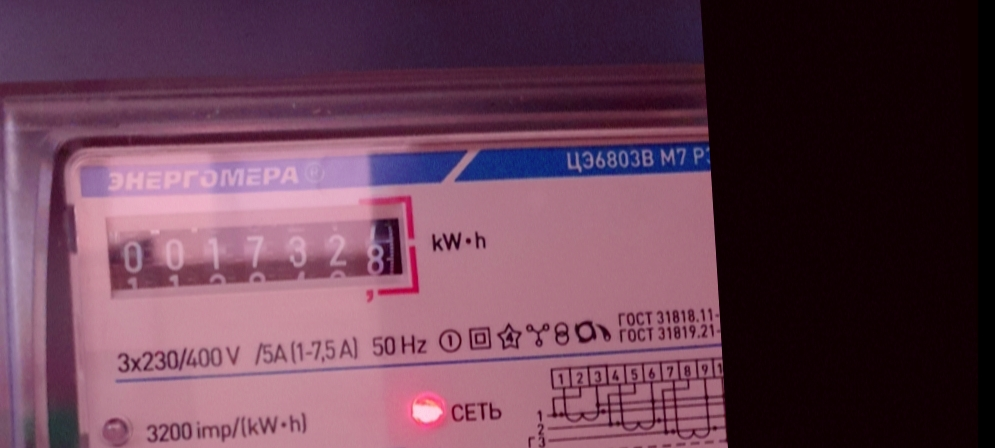0: (121, 237, 145, 275), (163, 236, 185, 271)
1: (206, 234, 223, 271)
2: (325, 232, 348, 269)
3: (285, 233, 309, 269)
7: (242, 231, 268, 270)
8: (363, 241, 385, 277)
screen: (95, 195, 423, 315)
